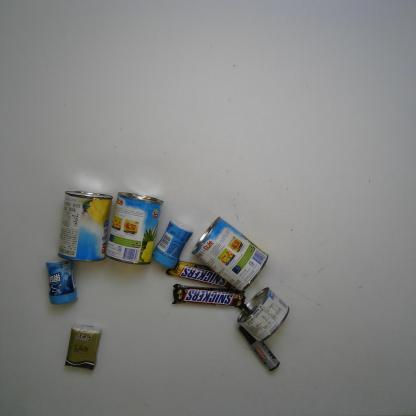Canned Food: (189, 216, 269, 294), (104, 191, 164, 265), (56, 190, 114, 262), (237, 287, 289, 342)
Chocolate: (166, 258, 232, 290), (171, 283, 246, 311)
Gum: (151, 219, 194, 269), (46, 259, 78, 305)
Stationery: (238, 324, 280, 372)
Tissue: (63, 323, 102, 371)
